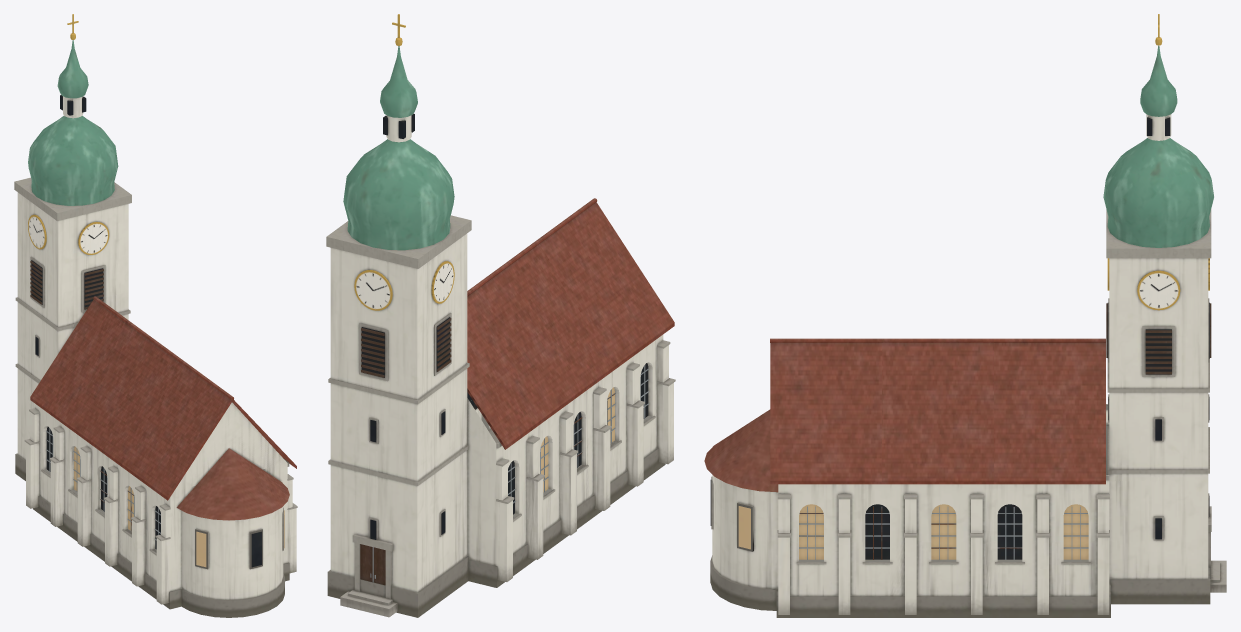
Rendered from village_church.glb.
The picture shows the model from 3 angles, left to right: view 1: azimuth 30°, elevation 25°; view 2: azimuth 150°, elevation 25°; view 3: azimuth 270°, elevation 25°; orthographic projection. The views are drawn at different scales.
Parts seen in each view (by area): view 1: village_church; view 2: village_church; view 3: village_church.
Part boxes in pixels (box(x1,y1,x2,y2)): village_church: box(14, 14, 297, 617); village_church: box(326, 14, 675, 617); village_church: box(704, 14, 1226, 617).
Size of the model in its own units: 11.64 by 37.9 by 31.58.
1 material, 1 textured.
